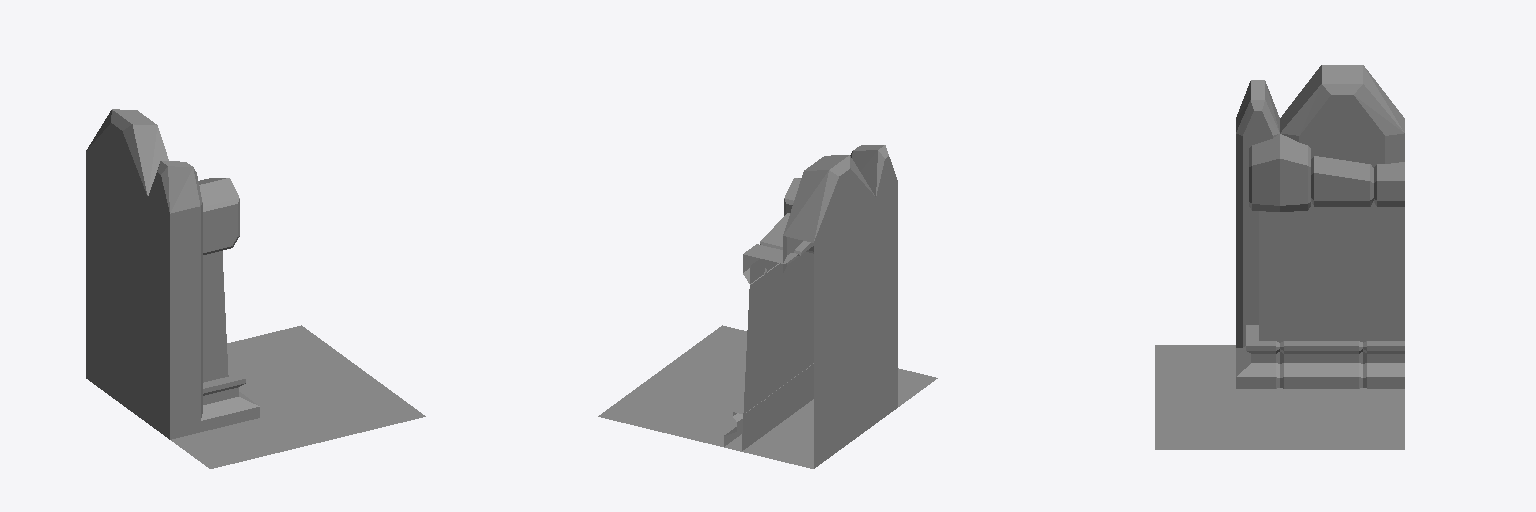
Rendered from Wall_Gap_Right.obj.
3 renders of one model, left to right at view 1: azimuth 30°, elevation 25°; view 2: azimuth 150°, elevation 25°; view 3: azimuth 270°, elevation 25°, orthographic.
Parts seen in each view (by area): view 1: Palette; view 2: Palette; view 3: Palette.
Boxes of the visible parts, x1,y1,x2,y2 form: Palette: [86, 109, 425, 468]; Palette: [598, 145, 937, 468]; Palette: [1155, 65, 1404, 449].
Size of the model in its own units: 6 by 7.5 by 6.